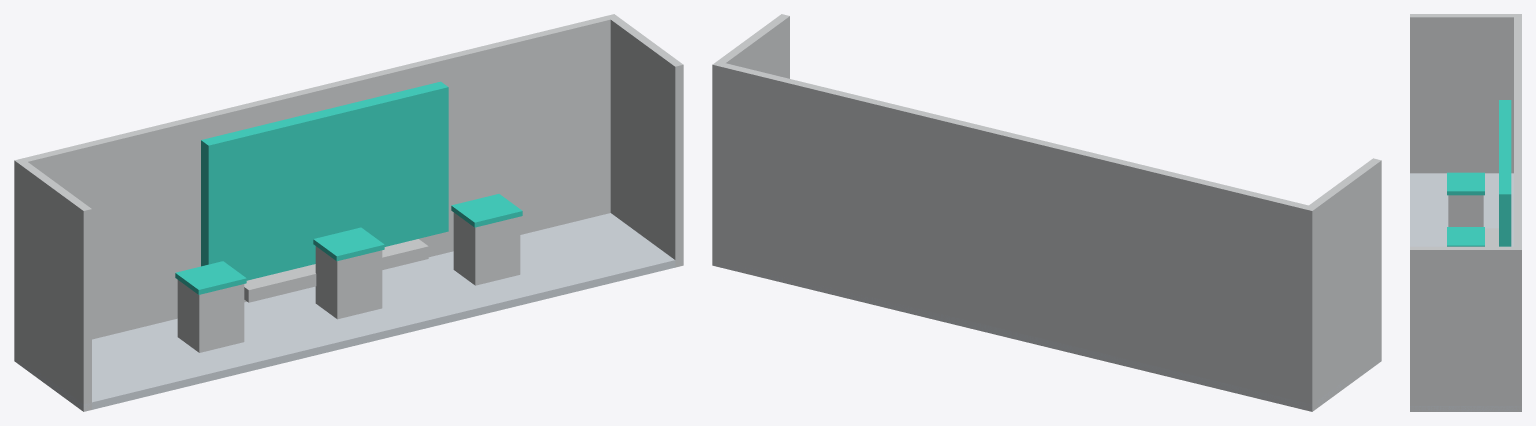
The picture shows the model from 3 angles, left to right: view 1: azimuth 30°, elevation 25°; view 2: azimuth 150°, elevation 25°; view 3: azimuth 270°, elevation 25°; orthographic projection. The views are drawn at different scales.
Visible parts, largest first — view 1: Exhibition Booth Concept; view 2: Exhibition Booth Concept; view 3: Exhibition Booth Concept.
Boxes of the visible parts, bbox=[...] form: Exhibition Booth Concept: bbox=[14, 14, 683, 411]; Exhibition Booth Concept: bbox=[712, 14, 1381, 411]; Exhibition Booth Concept: bbox=[1410, 14, 1521, 411].
Size of the model in its own units: 10 by 3.2 by 2.
